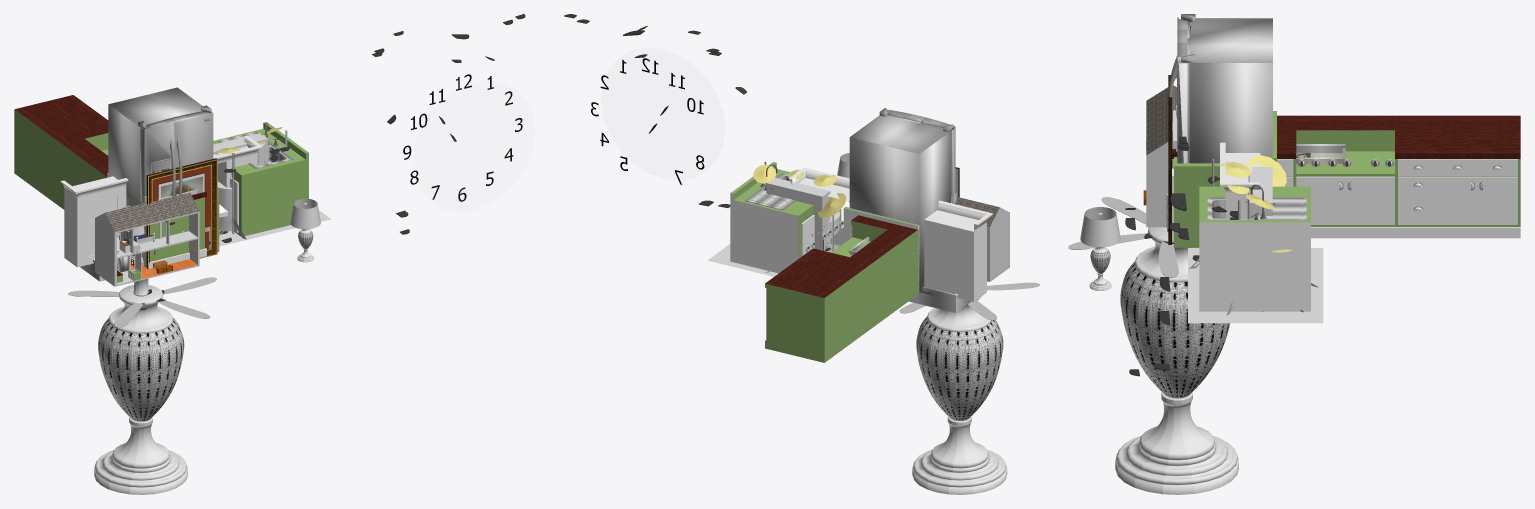
Rendered from dollhouse3.glb.
3 renders of one model, left to right at view 1: azimuth 30°, elevation 25°; view 2: azimuth 150°, elevation 25°; view 3: azimuth 270°, elevation 25°, orthographic. The views are drawn at different scales.
Parts seen in each view (by area): view 1: Kitchen Counter, SHS6YGZSS_DC, _(Loose Entity), sinkwithcounter, kitchen cabinets with extractor (wall mount), Lamp Body#1.002, Picture 01, Lamp Body#1.009, Lamp Body#1.008, Lamp Body#1.001, Lamp Body#1.003, Shade#1 (+2 smaller); view 2: Kitchen Counter, SHS6YGZSS_DC, kitchen cabinets with extractor (wall mount), sinkwithcounter (×2), Lamp Body#1.006, Lamp Body#1.007, Lamp Body#1, _(Loose Entity), Lamp Body#1.011, Bathroom_Cabinet_29Wx36Lx19D, Lamp Body#1.001, G-Group#20 (+3 smaller); view 3: Kitchen Counter, sinkwithcounter (×2), SHS6YGZSS_DC, Lamp Body#1.010, Lamp Body#1.004, rumset#1, _(Loose Entity), Lamp Body#1.003, Lamp Body#1.005, Lamp Body#1.011, kitchen cabinets with extractor (wall mount), Shade#1 (+6 smaller).
Part boxes in pixels (bbox=[...]): Kitchen Counter: bbox=[14, 95, 206, 268]; SHS6YGZSS_DC: bbox=[108, 87, 213, 258]; _(Loose Entity): bbox=[95, 192, 199, 286]; sinkwithcounter: bbox=[213, 122, 308, 236]; kitchen cabinets with extractor (wall mount): bbox=[60, 135, 262, 267]; Lamp Body#1.002: bbox=[130, 280, 154, 494]; Picture 01: bbox=[146, 158, 217, 268]; Lamp Body#1.009: bbox=[143, 279, 175, 493]; Lamp Body#1.008: bbox=[109, 281, 139, 494]; Lamp Body#1.001: bbox=[96, 281, 135, 489]; Lamp Body#1.003: bbox=[146, 279, 186, 488]; Shade#1: bbox=[290, 198, 320, 229]; Kitchen Counter: bbox=[765, 215, 919, 362]; SHS6YGZSS_DC: bbox=[849, 108, 955, 293]; kitchen cabinets with extractor (wall mount): bbox=[788, 167, 992, 301]; sinkwithcounter (×2): bbox=[730, 162, 919, 287]; Lamp Body#1.006: bbox=[949, 306, 973, 494]; Lamp Body#1.007: bbox=[927, 311, 957, 494]; Lamp Body#1: bbox=[962, 304, 994, 493]; _(Loose Entity): bbox=[954, 197, 1009, 281]; Lamp Body#1.011: bbox=[914, 310, 952, 488]; Bathroom_Cabinet_29Wx36Lx19D: bbox=[766, 177, 830, 251]; Lamp Body#1.001: bbox=[967, 297, 1005, 488]; G-Group#20: bbox=[909, 287, 971, 312]; Kitchen Counter: bbox=[1172, 115, 1520, 238]; sinkwithcounter (×2): bbox=[1172, 111, 1310, 311]; SHS6YGZSS_DC: bbox=[1176, 14, 1272, 163]; Lamp Body#1.010: bbox=[1163, 244, 1194, 494]; Lamp Body#1.004: bbox=[1134, 233, 1173, 494]; rumset#1: bbox=[1188, 248, 1323, 323]; _(Loose Entity): bbox=[1146, 85, 1176, 227]; Lamp Body#1.003: bbox=[1118, 228, 1168, 487]; Lamp Body#1.005: bbox=[1181, 247, 1222, 493]; Lamp Body#1.011: bbox=[1186, 247, 1237, 486]; kitchen cabinets with extractor (wall mount): bbox=[1220, 142, 1260, 219]; Shade#1: bbox=[1080, 207, 1120, 247].
Size of the model in its own units: 5.85 by 4.77 by 3.94.
Materials: 88 (44 with a texture image).
